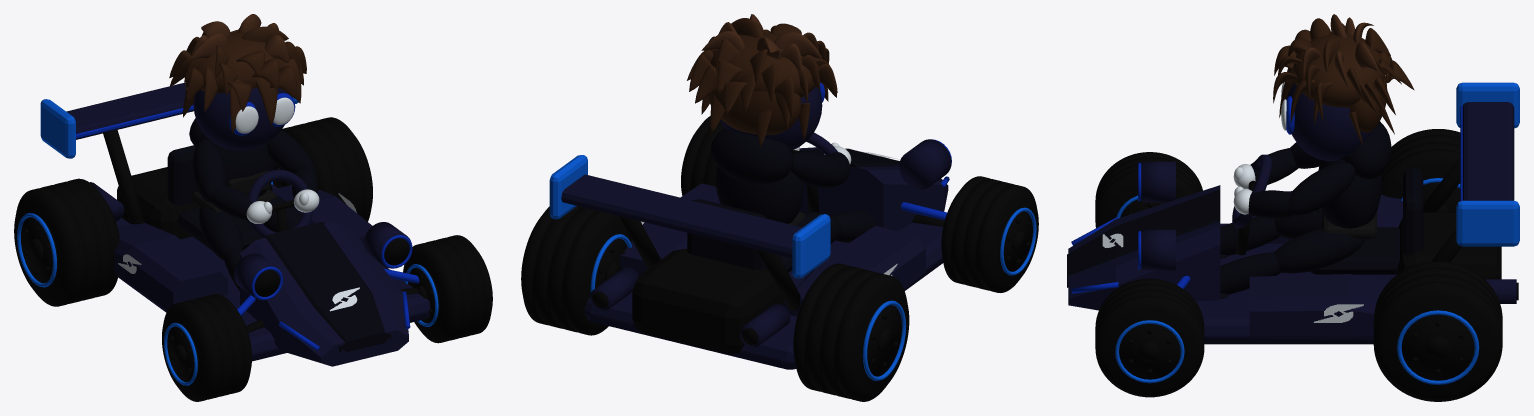
File: RetreeDriving.glb
3 renders of one model, left to right at view 1: azimuth 30°, elevation 25°; view 2: azimuth 150°, elevation 25°; view 3: azimuth 270°, elevation 25°, orthographic. The views are drawn at different scales.
Parts seen in each view (by area): view 1: CHASSIS, RETREE_SEATED, WHEEL_RL, WHEEL_FL, WHEEL_FR, WHEEL_RR; view 2: CHASSIS, RETREE_SEATED, WHEEL_RL, WHEEL_RR, WHEEL_FL, WHEEL_FR; view 3: CHASSIS, RETREE_SEATED, WHEEL_RR, WHEEL_FR, WHEEL_RL, WHEEL_FL.
Boxes of the visible parts, box(x1,y1,x2,y2) form: CHASSIS: box(40, 82, 430, 366); RETREE_SEATED: box(169, 14, 319, 291); WHEEL_RL: box(14, 178, 119, 306); WHEEL_FL: box(162, 294, 251, 401); WHEEL_FR: box(403, 235, 492, 343); WHEEL_RR: box(271, 117, 372, 221); CHASSIS: box(549, 132, 951, 369); RETREE_SEATED: box(687, 14, 877, 243); WHEEL_RL: box(793, 263, 909, 401); WHEEL_RR: box(521, 206, 632, 335); WHEEL_FL: box(941, 176, 1038, 292); WHEEL_FR: box(681, 116, 724, 195); CHASSIS: box(1067, 82, 1519, 344); RETREE_SEATED: box(1220, 14, 1414, 298); WHEEL_RR: box(1373, 261, 1502, 401); WHEEL_FR: box(1095, 278, 1204, 397); WHEEL_RL: box(1381, 129, 1460, 212); WHEEL_FL: box(1095, 152, 1202, 227).
Bounding box in the file's own units: 1.74 × 1.43 × 1.99.
